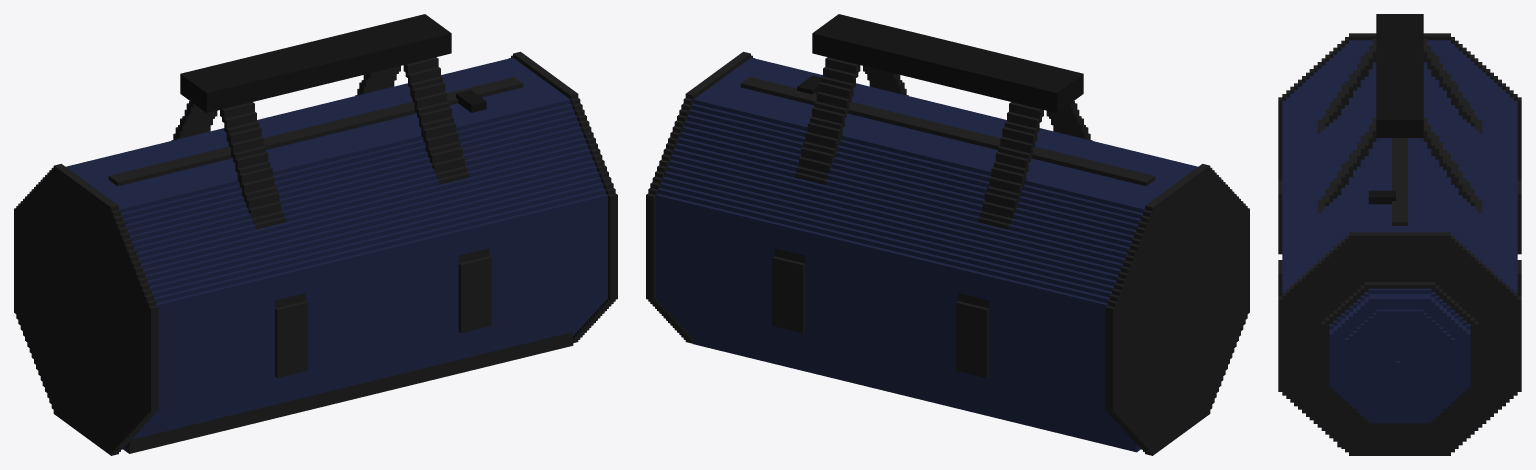
Rendered from duffelbag_gym_m.glb.
The picture shows the model from 3 angles, left to right: view 1: azimuth 30°, elevation 25°; view 2: azimuth 150°, elevation 25°; view 3: azimuth 270°, elevation 25°; orthographic projection. The views are drawn at different scales.
Parts seen in each view (by area): view 1: duffelbag_gym_m:compound; view 2: duffelbag_gym_m:compound; view 3: duffelbag_gym_m:compound.
Part boxes in pixels (left/top/right/bottom): duffelbag_gym_m:compound: left=14, top=14, right=617, bottom=455; duffelbag_gym_m:compound: left=646, top=14, right=1249, bottom=455; duffelbag_gym_m:compound: left=1278, top=14, right=1521, bottom=455.
Size of the model in its own units: 0.52 by 0.324 by 0.248.
